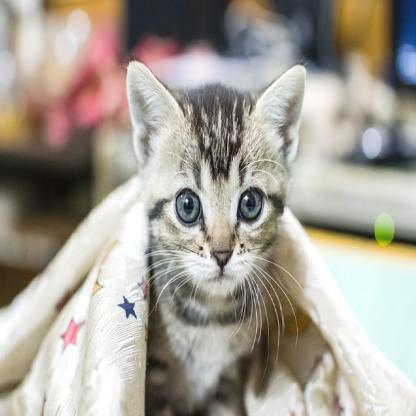cat: (120, 56, 310, 415)
